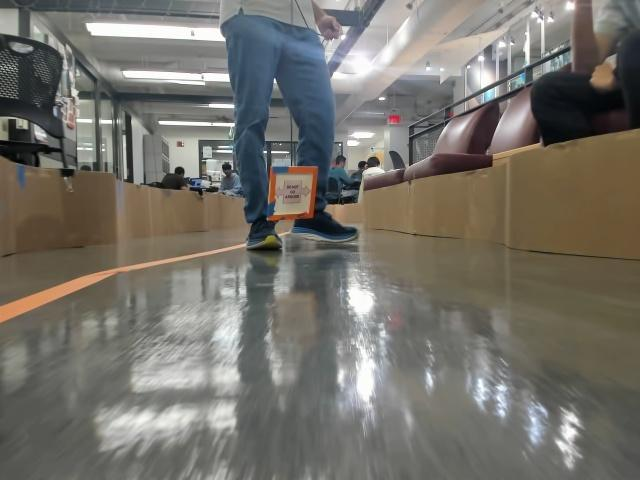Do Not Go Around: (276, 180, 309, 201)
